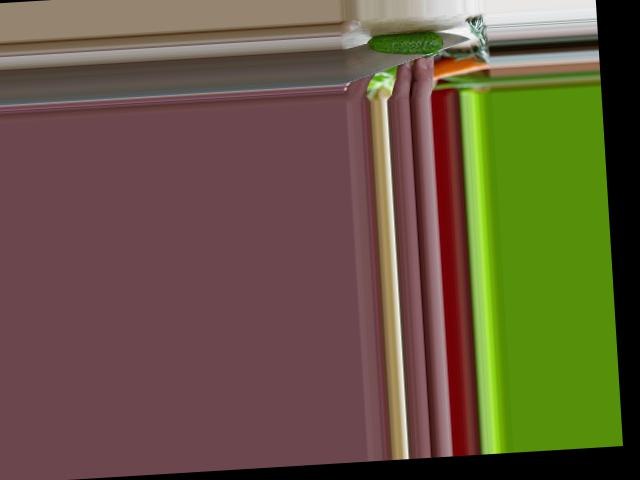cucumber: (367, 29, 444, 56)
